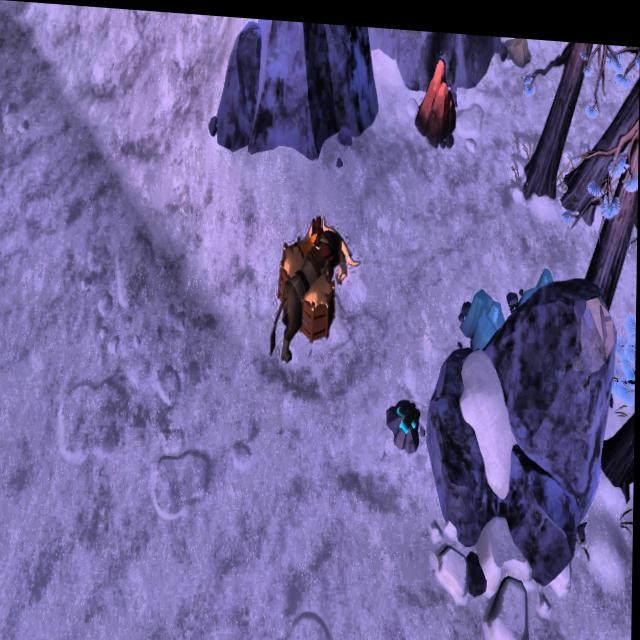ore_t4: (396, 387, 424, 433)
rock_t4: (460, 275, 503, 354), (513, 254, 558, 315)
rock_t5: (414, 51, 461, 141)
